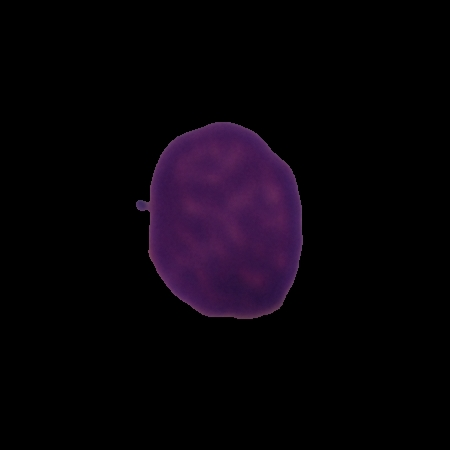HEM: (133, 118, 307, 322)
